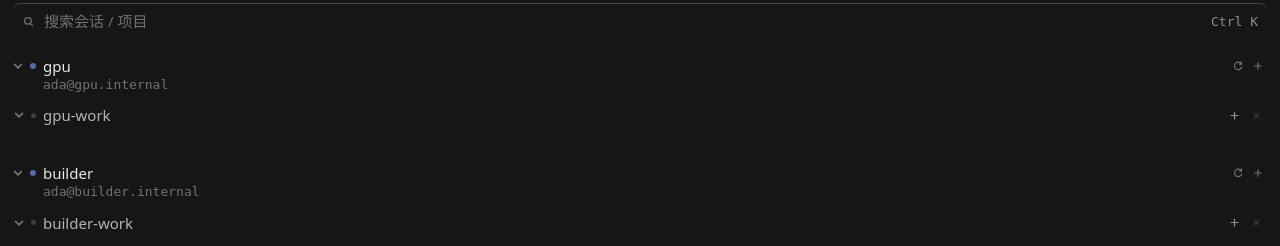
Test case: the rail's search reaches every machine › keeps a machine whose name matches
The width and height of the screenshot is (1280, 246).
In the search field labelled "搜索会话 / 项目": (623, 21) [42,10,1204,32], type "gpu"
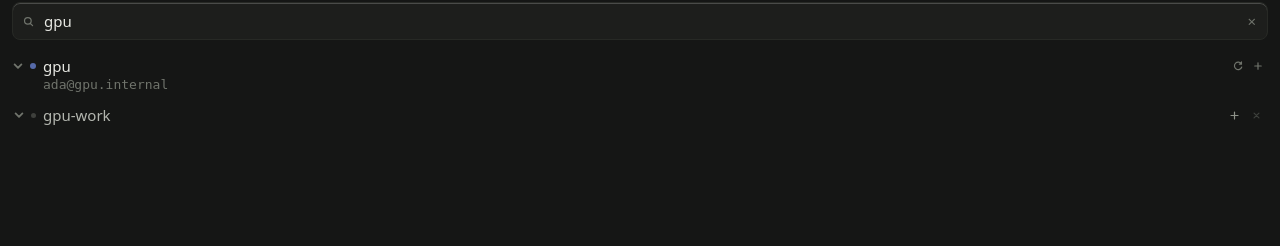
Expected: the text "gpu" is shown, [43,56,71,76]
Expected: the text "builder" is gone
